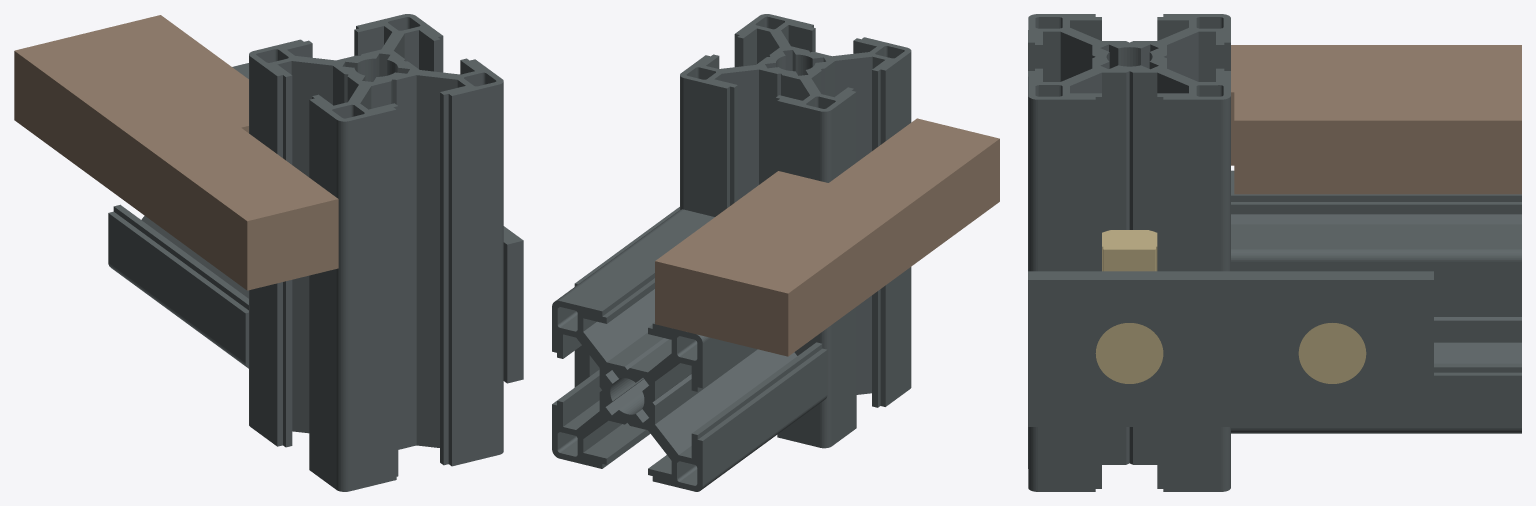
Rendered from right-shelf-frame-detail.glb.
The picture shows the model from 3 angles, left to right: view 1: azimuth 30°, elevation 25°; view 2: azimuth 150°, elevation 25°; view 3: azimuth 270°, elevation 25°; orthographic projection. The views are drawn at different scales.
Visible parts, largest first — view 1: Post-966-23, Shelf-Right-1, Beam-right-shelf-1, Right-flat-plate-1-Front; view 2: Shelf-Right-1, Post-966-23, Beam-right-shelf-1, Right-flat-plate-1-Front; view 3: Post-966-23, Right-flat-plate-1-Front, Shelf-Right-1, Beam-right-shelf-1, Right-plate-M5x10-1-Front-38, Right-plate-M5x10-1-Front-68, Right-plate-5048-1-Front-38.
Part boxes in pixels (x1=…): Post-966-23: x1=249, y1=14, x2=503, y2=491; Shelf-Right-1: x1=14, y1=15, x2=338, y2=290; Beam-right-shelf-1: x1=108, y1=63, x2=248, y2=368; Right-flat-plate-1-Front: x1=503, y1=226, x2=523, y2=383; Shelf-Right-1: x1=655, y1=118, x2=999, y2=356; Post-966-23: x1=680, y1=14, x2=911, y2=448; Beam-right-shelf-1: x1=552, y1=209, x2=827, y2=491; Right-flat-plate-1-Front: x1=574, y1=207, x2=679, y2=387; Post-966-23: x1=1028, y1=14, x2=1230, y2=491; Right-flat-plate-1-Front: x1=1028, y1=271, x2=1433, y2=426; Shelf-Right-1: x1=1231, y1=45, x2=1521, y2=194; Beam-right-shelf-1: x1=1231, y1=170, x2=1521, y2=433; Right-plate-M5x10-1-Front-38: x1=1095, y1=323, x2=1163, y2=383; Right-plate-M5x10-1-Front-68: x1=1298, y1=323, x2=1366, y2=383; Right-plate-5048-1-Front-38: x1=1102, y1=230, x2=1157, y2=271.
Size of the model in its own units: 0.05 by 0.064 by 0.073.
